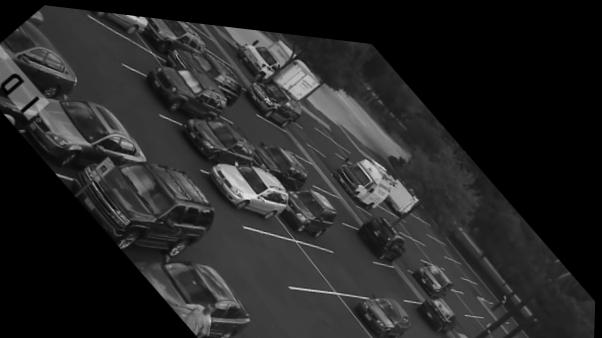empty: (247, 228, 332, 283), (303, 226, 375, 280), (302, 285, 375, 334), (88, 19, 161, 65), (260, 111, 306, 150), (296, 148, 338, 186), (377, 256, 420, 289), (196, 25, 231, 58), (319, 123, 356, 154), (325, 183, 359, 215), (226, 100, 258, 130), (463, 302, 497, 330), (401, 223, 431, 251), (381, 198, 411, 224), (478, 305, 509, 330), (461, 280, 489, 304), (402, 207, 429, 231), (421, 231, 447, 255), (450, 280, 476, 303), (466, 269, 497, 288), (443, 258, 471, 279), (415, 206, 440, 227), (447, 247, 474, 266), (432, 227, 456, 246), (403, 233, 419, 257), (436, 327, 468, 338), (455, 302, 470, 321), (519, 330, 537, 338), (501, 330, 518, 338), (487, 331, 504, 338)
occupied: (59, 159, 215, 246), (130, 256, 262, 330), (13, 91, 150, 158), (0, 21, 77, 94), (208, 155, 290, 220), (151, 62, 227, 116), (178, 113, 255, 162), (242, 65, 302, 123), (333, 149, 397, 199), (180, 46, 242, 97), (254, 135, 307, 186), (353, 207, 407, 256), (286, 181, 338, 231), (353, 289, 410, 330), (144, 14, 205, 48), (416, 286, 459, 324), (414, 250, 455, 288), (92, 9, 147, 32)
